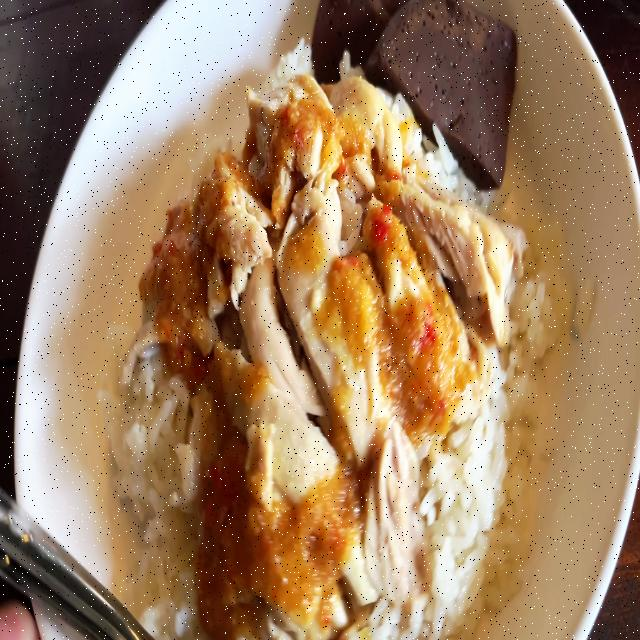boiled_chicken: (158, 80, 466, 587)
boiled_chicken_blood_jelly: (309, 0, 518, 163)
chicken_rice: (113, 0, 562, 640)
